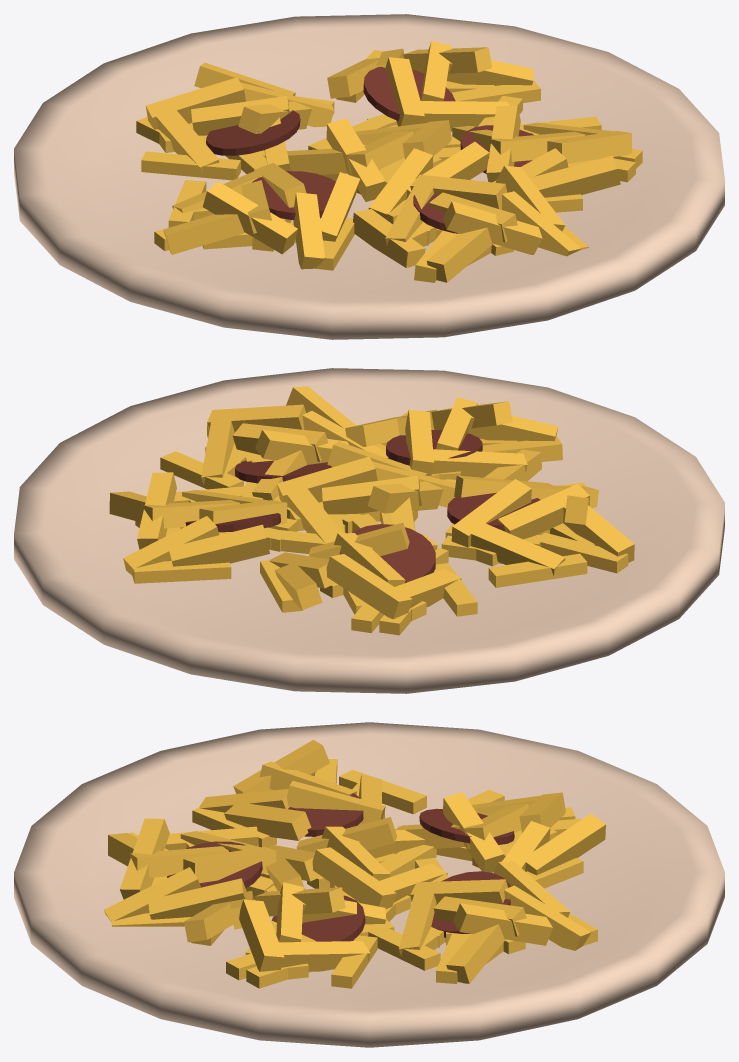
Rendered from RawPizza(WithPepperoni and Cheese).glb.
3 renders of one model, top to bottom at view 1: azimuth 30°, elevation 25°; view 2: azimuth 150°, elevation 25°; view 3: azimuth 270°, elevation 25°, orthographic.
Parts seen in each view (by area): view 1: Cube.142; view 2: Cube.142; view 3: Cube.142.
Part boxes in pixels (x1,y1,x2,y2): Cube.142: (14, 14, 724, 339); Cube.142: (14, 368, 724, 693); Cube.142: (14, 722, 724, 1047).
Size of the model in its own units: 0.8833 by 0.0988 by 0.8833.
